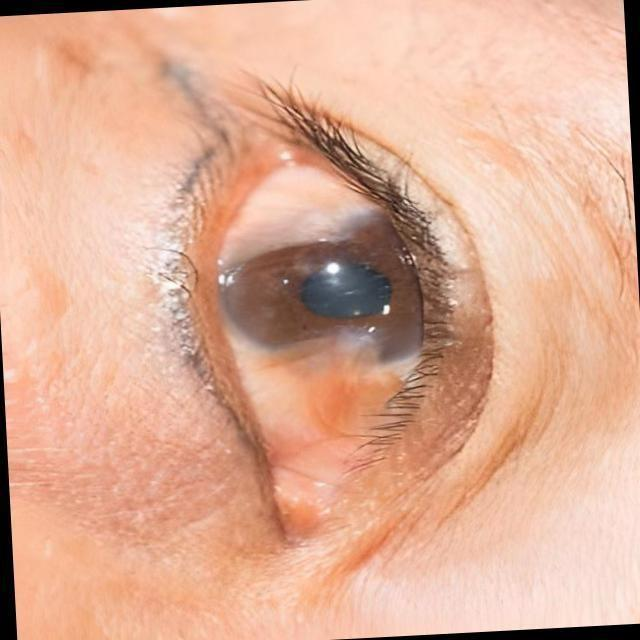Pterygium: (235, 330, 420, 500), (210, 132, 390, 280)
